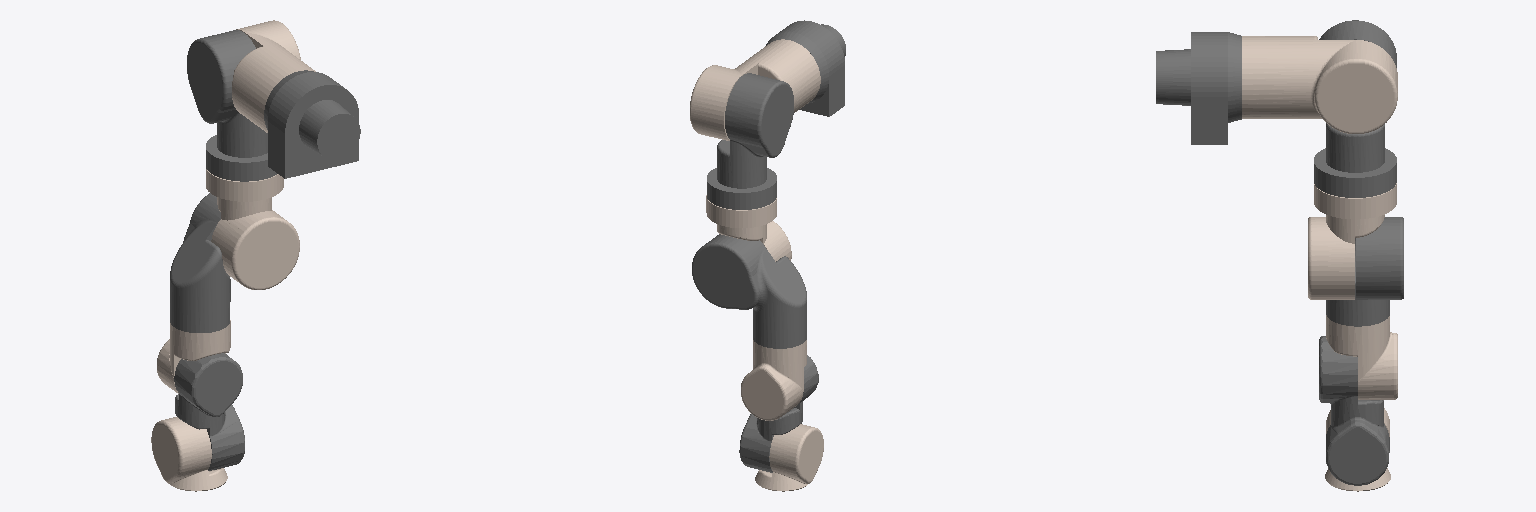
The robot description file, URDF, robot "ballbot":
<?xml version="1.0" encoding="utf-8"?>
<!-- =================================================================================== -->
<!-- |    This document was autogenerated by xacro from ballbot_left_arm.urdf.xacro    | -->
<!-- |    EDITING THIS FILE BY HAND IS NOT RECOMMENDED                                 | -->
<!-- =================================================================================== -->
<robot name="ballbot">
  <!-- CAD -->
  <material name="black">
    <color rgba="0.0 0.0 0.0 1.0"/>
  </material>
  <material name="blue">
    <color rgba="0.0 0.0 0.8 1.0"/>
  </material>
  <material name="green">
    <color rgba="0.0 0.8 0.0 1.0"/>
  </material>
  <material name="dark_grey">
    <color rgba="0.2 0.2 0.2 1.0"/>
  </material>
  <material name="grey">
    <color rgba="0.5 0.5 0.5 1.0"/>
  </material>
  <material name="light_grey">
    <color rgba="0.8 0.8 0.8 1.0"/>
  </material>
  <material name="orange">
    <color rgba="1.0 0.423529411765 0.0392156862745 1.0"/>
  </material>
  <material name="brown">
    <color rgba="0.870588235294 0.811764705882 0.764705882353 1.0"/>
  </material>
  <material name="white">
    <color rgba="1.0 1.0 1.0 1.0"/>
  </material>
  <material name="yellow">
    <color rgba="0.8 0.68 0 1"/>
  </material>
  <material name="red">
    <color rgba="1.0 0.0 0.0 1"/>
  </material>
  <material name="aluminum">
    <color rgba="0.5 0.5 0.5 1"/>
  </material>
  <!-- ros_control plugin -->
  <gazebo>
    <plugin filename="libgazebo_ros_control.so" name="gazebo_ros_control">
      <robotNamespace>/ballbot</robotNamespace>
      <robotSimType>gazebo_ros_control/DefaultRobotHWSim</robotSimType>
      <legacyModeNS>true</legacyModeNS>
    </plugin>
  </gazebo>
  <gazebo reference="BallbotBase">
    <material>Gazebo/Orange</material>
    <selfCollide>false</selfCollide>
    <static>true</static>
  </gazebo>
  <gazebo reference="Link_FakeBall">
    <material>Gazebo/Orange</material>
    <selfCollide>true</selfCollide>
    <static>true</static>
  </gazebo>
  <gazebo reference="Link_Ball">
    <material>Gazebo/Orange</material>
    <self_collide>false</self_collide>
    <static>true</static>
  </gazebo>
  <gazebo reference="Link_FakeBody">
    <material>Gazebo/Orange</material>
    <selfCollide>false</selfCollide>
    <static>true</static>
  </gazebo>
  <gazebo reference="Link_Body">
    <material>Gazebo/Yellow</material>
    <self_collide>true</self_collide>
    <static>true</static>
  </gazebo>
  <!-- Right Arm Transmissions -->
  <transmission name="RArmTran1">
    <type>transmission_interface/SimpleTransmission</type>
    <joint name="JRA1">
      <hardwareInterface>hardware_interface/EffortJointInterface</hardwareInterface>
    </joint>
    <actuator name="RArmMotor1">
      <hardwareInterface>hardware_interface/EffortJointInterface</hardwareInterface>
      <mechanicalReduction>1</mechanicalReduction>
    </actuator>
  </transmission>
  <transmission name="RArmTran2">
    <type>transmission_interface/SimpleTransmission</type>
    <joint name="JRA2">
      <hardwareInterface>hardware_interface/EffortJointInterface</hardwareInterface>
    </joint>
    <actuator name="RArmMotor2">
      <hardwareInterface>hardware_interface/EffortJointInterface</hardwareInterface>
      <mechanicalReduction>1</mechanicalReduction>
    </actuator>
  </transmission>
  <transmission name="RArmTran3">
    <type>transmission_interface/SimpleTransmission</type>
    <joint name="JRA3">
      <hardwareInterface>hardware_interface/EffortJointInterface</hardwareInterface>
    </joint>
    <actuator name="RArmMotor3">
      <hardwareInterface>hardware_interface/EffortJointInterface</hardwareInterface>
      <mechanicalReduction>1</mechanicalReduction>
    </actuator>
  </transmission>
  <transmission name="RArmTran4">
    <type>transmission_interface/SimpleTransmission</type>
    <joint name="JRA4">
      <hardwareInterface>hardware_interface/EffortJointInterface</hardwareInterface>
    </joint>
    <actuator name="RArmMotor4">
      <hardwareInterface>hardware_interface/EffortJointInterface</hardwareInterface>
      <mechanicalReduction>1</mechanicalReduction>
    </actuator>
  </transmission>
  <transmission name="RArmTran5">
    <type>transmission_interface/SimpleTransmission</type>
    <joint name="JRA5">
      <hardwareInterface>hardware_interface/EffortJointInterface</hardwareInterface>
    </joint>
    <actuator name="RArmMotor5">
      <hardwareInterface>hardware_interface/EffortJointInterface</hardwareInterface>
      <mechanicalReduction>1</mechanicalReduction>
    </actuator>
  </transmission>
  <transmission name="RArmTran6">
    <type>transmission_interface/SimpleTransmission</type>
    <joint name="JRA6">
      <hardwareInterface>hardware_interface/EffortJointInterface</hardwareInterface>
    </joint>
    <actuator name="RArmMotor6">
      <hardwareInterface>hardware_interface/EffortJointInterface</hardwareInterface>
      <mechanicalReduction>1</mechanicalReduction>
    </actuator>
  </transmission>
  <transmission name="RArmTran7">
    <type>transmission_interface/SimpleTransmission</type>
    <joint name="JRA7">
      <hardwareInterface>hardware_interface/EffortJointInterface</hardwareInterface>
    </joint>
    <actuator name="RArmMotor7">
      <hardwareInterface>hardware_interface/EffortJointInterface</hardwareInterface>
      <mechanicalReduction>1</mechanicalReduction>
    </actuator>
  </transmission>
  <!-- Left Arm Transmissions -->
  <transmission name="LArmTran1">
    <type>transmission_interface/SimpleTransmission</type>
    <joint name="JLA1">
      <hardwareInterface>hardware_interface/EffortJointInterface</hardwareInterface>
    </joint>
    <actuator name="LArmMotor1">
      <hardwareInterface>hardware_interface/EffortJointInterface</hardwareInterface>
      <mechanicalReduction>1</mechanicalReduction>
    </actuator>
  </transmission>
  <transmission name="LArmTran2">
    <type>transmission_interface/SimpleTransmission</type>
    <joint name="JLA2">
      <hardwareInterface>hardware_interface/EffortJointInterface</hardwareInterface>
    </joint>
    <actuator name="LArmMotor2">
      <hardwareInterface>hardware_interface/EffortJointInterface</hardwareInterface>
      <mechanicalReduction>1</mechanicalReduction>
    </actuator>
  </transmission>
  <transmission name="LArmTran3">
    <type>transmission_interface/SimpleTransmission</type>
    <joint name="JLA3">
      <hardwareInterface>hardware_interface/EffortJointInterface</hardwareInterface>
    </joint>
    <actuator name="LArmMotor3">
      <hardwareInterface>hardware_interface/EffortJointInterface</hardwareInterface>
      <mechanicalReduction>1</mechanicalReduction>
    </actuator>
  </transmission>
  <transmission name="LArmTran4">
    <type>transmission_interface/SimpleTransmission</type>
    <joint name="JLA4">
      <hardwareInterface>hardware_interface/EffortJointInterface</hardwareInterface>
    </joint>
    <actuator name="LArmMotor4">
      <hardwareInterface>hardware_interface/EffortJointInterface</hardwareInterface>
      <mechanicalReduction>1</mechanicalReduction>
    </actuator>
  </transmission>
  <transmission name="LArmTran5">
    <type>transmission_interface/SimpleTransmission</type>
    <joint name="JLA5">
      <hardwareInterface>hardware_interface/EffortJointInterface</hardwareInterface>
    </joint>
    <actuator name="LArmMotor5">
      <hardwareInterface>hardware_interface/EffortJointInterface</hardwareInterface>
      <mechanicalReduction>1</mechanicalReduction>
    </actuator>
  </transmission>
  <transmission name="LArmTran6">
    <type>transmission_interface/SimpleTransmission</type>
    <joint name="JLA6">
      <hardwareInterface>hardware_interface/EffortJointInterface</hardwareInterface>
    </joint>
    <actuator name="LArmMotor6">
      <hardwareInterface>hardware_interface/EffortJointInterface</hardwareInterface>
      <mechanicalReduction>1</mechanicalReduction>
    </actuator>
  </transmission>
  <transmission name="LArmTran7">
    <type>transmission_interface/SimpleTransmission</type>
    <joint name="JLA7">
      <hardwareInterface>hardware_interface/EffortJointInterface</hardwareInterface>
    </joint>
    <actuator name="LArmMotor7">
      <hardwareInterface>hardware_interface/EffortJointInterface</hardwareInterface>
      <mechanicalReduction>1</mechanicalReduction>
    </actuator>
  </transmission>
  <!--<gazebo reference="">
    <material>Gazebo/Yellow</material>
  </gazebo>

  - Right Arm 
  <gazebo reference="Link_FakeBall">
    <mu1>0.2</mu1>
    <mu2>0.2</mu1>
    <material>Gazebo/Orange</material>
  </gazebo>

  <gazebo reference="Link_Ball">
    <mu1>0.2</mu1>
    <mu2>0.2</mu1>
    <material>Gazebo/Orange</material>
  </gazebo>

  <gazebo reference="Link_FakeBody">
    <mu1>0.2</mu1>
    <mu2>0.2</mu1>
    <material>Gazebo/Orange</material>
  </gazebo>

  <gazebo reference="Link_Body">
    <mu1>0.2</mu1>
    <mu2>0.2</mu1>
    <material>Gazebo/Orange</material>
  </gazebo-->
  <!-- Used for fixing robot to Gazebo 'base_link' -->
  <link name="base_link"/>
  <!-- ====================================== -->
  <!-- Left Arm-->
  <joint name="JLA0" type="fixed">
    <origin rpy="1.5707963268 -1.5707963268 -3.14159265359" xyz="-0.00635 0.12314 0.56715"/>
    <parent link="base_link"/>
    <child link="LArm0"/>
    <axis xyz="0 0 1"/>
  </joint>
  <link name="LArm0">
    <inertial>
      <origin rpy="0 0 0" xyz="-0.00832 0.0 -0.0418"/>
      <mass value="2.367"/>
      <inertia ixx="0.00366" ixy="0.0" ixz="-0.0000208" iyy="0.00398" iyz="0.0" izz="0.00461"/>
    </inertial>
    <visual>
      <origin rpy="0 0 0" xyz="0 0 0"/>
      <geometry>
        <mesh filename="package://ballbot_arm_description/meshes/v2020_dae/link_base.dae"/>
      </geometry>
      <material name="grey"/>
    </visual>
    <collision>
      <origin rpy="0 0 0" xyz="0 0 0"/>
      <geometry>
        <mesh filename="package://ballbot_arm_description/meshes/v2020_dae/link_base.dae"/>
      </geometry>
    </collision>
  </link>
  <link name="LArm1">
    <inertial>
      <origin xyz="0.0 0.00329 0.0865"/>
      <mass value="4.181"/>
      <inertia ixx="0.0172" ixy="0.0000173" ixz="0.0" iyy="0.0170" iyz="-0.000935" izz="0.00602"/>
    </inertial>
    <visual>
      <origin rpy="0 0 0" xyz="0.0 0.0 0.0"/>
      <geometry>
        <mesh filename="package://ballbot_arm_description/meshes/v2020_dae/link_shoulder_2_base.dae"/>
      </geometry>
      <material name="brown"/>
    </visual>
    <collision>
      <origin rpy="0 0 0" xyz="0.0 0.0 -0.05525"/>
      <geometry>
        <cylinder length="0.1105" radius="0.05"/>
      </geometry>
      <material name="blue"/>
    </collision>
  </link>
  <link name="LArm2">
    <inertial>
      <origin xyz="-0.123 0.000 -0.0507"/>
      <mass value="1.832"/>
      <inertia ixx="0.00241" ixy="0.0" ixz="-0.000742" iyy="0.00559" iyz="0.0" izz="0.00563"/>
    </inertial>
    <visual>
      <origin rpy="0 0 0" xyz="0.0 0.0 0.0"/>
      <geometry>
        <mesh filename="package://ballbot_arm_description/meshes/v2020_dae/link_shoulder_2_uparm.dae"/>
      </geometry>
      <material name="grey"/>
    </visual>
    <collision>
      <origin rpy="0 0 0" xyz="0.0 0.0 -0.05525"/>
      <geometry>
        <cylinder length="0.1105" radius="0.05"/>
      </geometry>
      <material name="blue"/>
    </collision>
  </link>
  <link name="LArm3">
    <inertial>
      <origin xyz="0.0 -0.00963 0.0773"/>
      <mass value="1.821"/>
      <inertia ixx="0.00375" ixy="0.0" ixz="0.0" iyy="0.00338" iyz="0.000169" izz="0.00278"/>
    </inertial>
    <visual>
      <origin rpy="0 0 0" xyz="0.0 0.0 -0.02718"/>
      <geometry>
        <mesh filename="package://ballbot_arm_description/meshes/v2020_dae/link_upperarm.dae"/>
      </geometry>
      <material name="brown"/>
    </visual>
    <collision>
      <origin rpy="0 0 0" xyz="0.0 0.0 -0.05525"/>
      <geometry>
        <cylinder length="0.1105" radius="0.05"/>
      </geometry>
      <material name="blue"/>
    </collision>
  </link>
  <link name="LArm4">
    <inertial>
      <origin xyz="-0.0758 -0.0594 -0.0448"/>
      <mass value="1.105"/>
      <inertia ixx="0.00186" ixy="-0.000915" ixz="-0.000456" iyy="0.00276" iyz="-0.000276" izz="0.00356"/>
    </inertial>
    <visual>
      <origin rpy="0 0 0" xyz="0.0 0.0 0.0"/>
      <geometry>
        <mesh filename="package://ballbot_arm_description/meshes/v2020_dae/link_forearm.dae"/>
      </geometry>
      <material name="grey"/>
    </visual>
    <collision>
      <origin rpy="0 0 0" xyz="0.0 0.0 -0.05525"/>
      <geometry>
        <cylinder length="0.1105" radius="0.05"/>
      </geometry>
      <material name="blue"/>
    </collision>
  </link>
  <link name="LArm5">
    <inertial>
      <origin xyz="-0.00147 0.0 -0.0537"/>
      <mass value="0.973"/>
      <inertia ixx="0.00106" ixy="0.0" ixz="-0.0000188" iyy="0.00123" iyz="0.0" izz="0.00101"/>
    </inertial>
    <visual>
      <origin rpy="0 0 0" xyz="0.0 0.0 0.0"/>
      <geometry>
        <mesh filename="package://ballbot_arm_description/meshes/v2020_dae/link_forearm_2_wrist.dae"/>
      </geometry>
      <material name="brown"/>
    </visual>
    <collision>
      <origin rpy="0 0 0" xyz="0.0 0.0 0.0495"/>
      <geometry>
        <cylinder length="0.099" radius="0.0375"/>
      </geometry>
      <material name="blue"/>
    </collision>
  </link>
  <link name="LArm6">
    <inertial>
      <origin xyz="0.0947 0.00543 0.0386"/>
      <mass value="1.013"/>
      <inertia ixx="0.00106" ixy="-0.0000831" ixz="-0.000236" iyy="0.00193" iyz="-0.0000139" izz="0.00215"/>
    </inertial>
    <visual>
      <origin rpy="0 0 0" xyz="0.0 0.0 0.0"/>
      <geometry>
        <mesh filename="package://ballbot_arm_description/meshes/v2020_dae/link_wrist_mid.dae"/>
      </geometry>
      <material name="grey"/>
    </visual>
    <collision>
      <origin rpy="0 0 0" xyz="0.0 0.0 0.0495"/>
      <geometry>
        <cylinder length="0.099" radius="0.0375"/>
      </geometry>
      <material name="blue"/>
    </collision>
  </link>
  <link name="LArm7">
    <inertial>
      <origin xyz="0.0235 -0.000000178 0.0295"/>
      <mass value="0.195"/>
      <inertia ixx="0.000257" ixy="0.0" ixz="-0.0000691" iyy="0.000325" iyz="0.0" izz="0.000362"/>
    </inertial>
    <visual>
      <origin rpy="0 0 0" xyz="0.0 0.0 0.0"/>
      <geometry>
        <mesh filename="package://ballbot_arm_description/meshes/v2020_dae/link_wrist_2_hand.dae"/>
      </geometry>
      <material name="brown"/>
    </visual>
    <collision>
      <origin rpy="0 0 0" xyz="0.0 0.0 0.0495"/>
      <geometry>
        <cylinder length="0.099" radius="0.0375"/>
      </geometry>
      <material name="blue"/>
    </collision>
  </link>
  <joint name="JLA1" type="revolute">
    <origin rpy="0.0 0.0 0.0" xyz="0.0 0.0 0.0"/>
    <parent link="LArm0"/>
    <child link="LArm1"/>
    <limit effort="30.0" lower="-2.96705972839" upper="2.96705972839" velocity="3.0"/>
    <axis xyz="0 0 1"/>
    <dynamics damping="0.7" friction="0.5"/>
  </joint>
  <joint name="JLA2" type="revolute">
    <origin rpy="1.5707963705062866 -0.0 0.0" xyz="0.00000 -0.05436 0.14900"/>
    <parent link="LArm1"/>
    <child link="LArm2"/>
    <limit effort="30.0" lower="-1.5707963268" upper="0.0349065850399" velocity="3.0"/>
    <axis xyz="0 0 1"/>
    <dynamics damping="0.7" friction="0.5"/>
  </joint>
  <joint name="JLA3" type="revolute">
    <origin rpy="2.0344439357957036 1.5707962290814481 -1.1071487177940917" xyz="-0.17786 0.00000 -0.05436"/>
    <parent link="LArm2"/>
    <child link="LArm3"/>
    <limit effort="30.0" lower="-1.5707963268" upper="1.5707963268" velocity="3.0"/>
    <axis xyz="0 0 1"/>
    <dynamics damping="0.7" friction="0.5"/>
  </joint>
  <joint name="JLA4" type="revolute">
    <origin rpy="-2.3561944901923457 1.5707962635746238 2.3561944901923457" xyz="0.00000 -0.05436 0.08522"/>
    <parent link="LArm3"/>
    <child link="LArm4"/>
    <limit effort="30.0" lower="-2.79252680319" upper="0.349065850399" velocity="3.0"/>
    <axis xyz="0 0 1"/>
    <dynamics damping="0.7" friction="0.5"/>
  </joint>
  <joint name="JLA5" type="revolute">
    <origin rpy="-1.5707963268 -1.5707963268 -1.5707963268" xyz="-0.13200 -0.07000 -0.05073"/>
    <parent link="LArm4"/>
    <child link="LArm5"/>
    <limit effort="30.0" lower="-2.82743338823" upper="2.82743338823" velocity="3.0"/>
    <axis xyz="0 0 1"/>
    <dynamics damping="0.7" friction="0.5"/>
  </joint>
  <joint name="JLA6" type="revolute">
    <origin rpy="0 1.5707963268 0" xyz="-0.041150 0.0 -0.06000"/>
    <parent link="LArm5"/>
    <child link="LArm6"/>
    <limit effort="30.0" lower="-1.49599650171" upper="1.49599650171" velocity="3.0"/>
    <axis xyz="0 0 1"/>
    <dynamics damping="0.7" friction="0.5"/>
  </joint>
  <joint name="JLA7" type="revolute">
    <origin rpy="1.5707963268 0.0 0.0" xyz="0.10750 0.04650 0.041150"/>
    <parent link="LArm6"/>
    <child link="LArm7"/>
    <limit effort="30.0" lower="-1.49599650171" upper="1.49599650171" velocity="3.0"/>
    <axis xyz="0 0 1"/>
    <dynamics damping="0.7" friction="0.5"/>
  </joint>
  <link name="toolL">
    <inertial>
      <origin xyz="0.0 0.0 0.0"/>
      <mass value="0.241"/>
      <inertia ixx="0.00001" ixy="0.0" ixz="0.0" iyy="0.00001" iyz="0.0" izz="0.00001"/>
    </inertial>
  </link>
  <joint name="LArm7-toolL" type="fixed">
    <origin rpy="0 1.5707963268 0" xyz="0.055 0 0.04065"/>
    <axis xyz="0 0 1"/>
    <parent link="LArm7"/>
    <child link="toolL"/>
  </joint>
</robot>

--- Facts derived from the render (not from the file) ---
The picture shows the robot from 3 angles, left to right: view 1: azimuth 30°, elevation 25°; view 2: azimuth 150°, elevation 25°; view 3: azimuth 270°, elevation 25°; orthographic projection.
Model ballbot with 10 links and 9 joints (7 revolute, 2 fixed), rooted at base_link, posed all joints at 0.
Links seen in each view (by area): view 1: LArm0, LArm2, LArm3, LArm4, LArm6, LArm1, LArm7, LArm5; view 2: LArm4, LArm2, LArm1, LArm5, LArm0, LArm7, LArm3, LArm6; view 3: LArm1, LArm0, LArm6, LArm3, LArm2, LArm4, LArm5, LArm7.
Boxes of the visible links, box(x1,y1,x2,y2) form: LArm0: box(264, 70, 360, 178); LArm2: box(187, 30, 276, 181); LArm3: box(206, 169, 299, 289); LArm4: box(170, 193, 230, 332); LArm6: box(174, 353, 244, 470); LArm1: box(232, 20, 315, 132); LArm7: box(151, 417, 227, 491); LArm5: box(157, 320, 230, 393); LArm4: box(692, 234, 806, 348); LArm2: box(707, 73, 793, 209); LArm1: box(690, 39, 820, 140); LArm5: box(741, 340, 806, 420); LArm0: box(766, 20, 845, 116); LArm7: box(755, 424, 823, 491); LArm3: box(706, 195, 791, 261); LArm6: box(739, 355, 818, 472); LArm1: box(1242, 36, 1397, 133); LArm0: box(1156, 32, 1241, 144); LArm6: box(1319, 336, 1389, 485); LArm3: box(1308, 183, 1396, 299); LArm2: box(1314, 20, 1396, 197); LArm4: box(1326, 217, 1403, 326); LArm5: box(1326, 315, 1397, 399); LArm7: box(1325, 408, 1390, 491).
Size in the robot's own frame: 0.19 by 0.3275 by 0.6776 metres.
Meshes: 8 distinct files referenced, 8 mesh visuals loaded (8 Collada DAE).